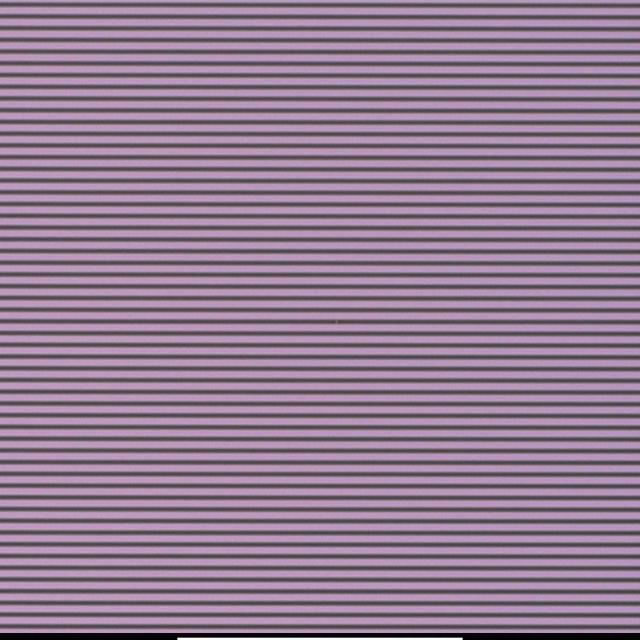03_intrusion: (332, 319, 340, 329)
